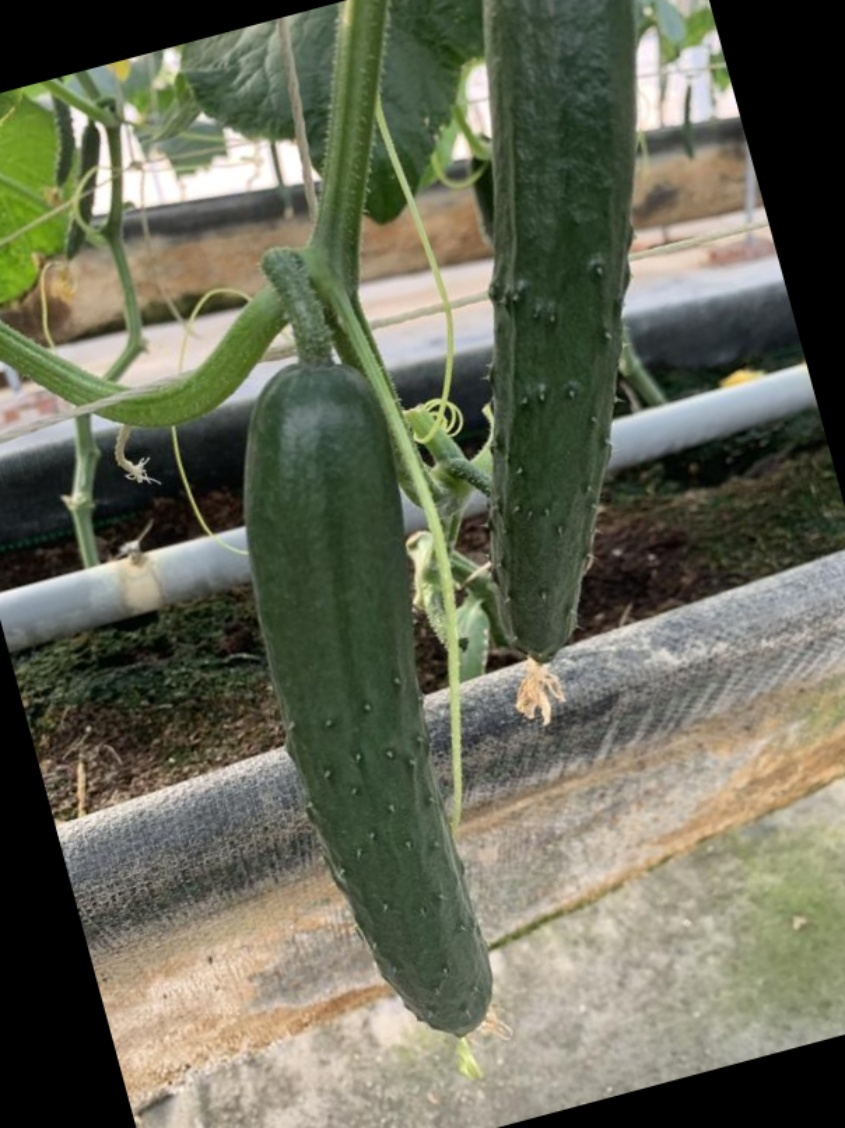mature: (477, 0, 637, 672)
